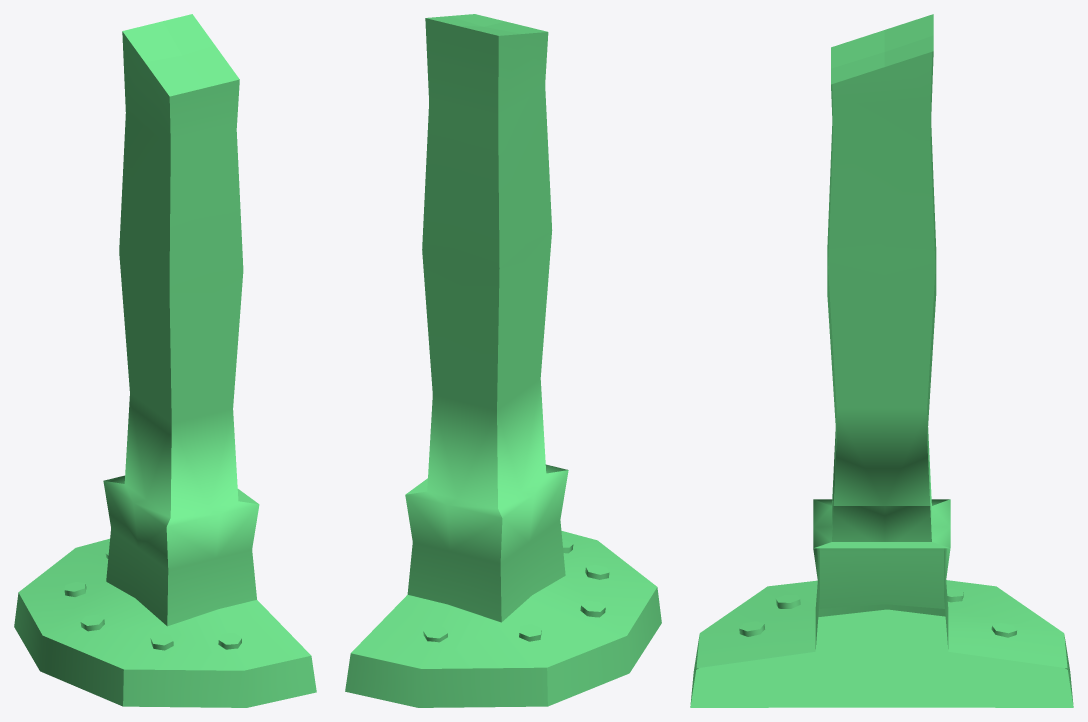
File: Kolumna złamana.fbx
3 views of the same model, side by side, from view 1: azimuth 30°, elevation 25°; view 2: azimuth 150°, elevation 25°; view 3: azimuth 270°, elevation 25° (orthographic). The views are drawn at different scales.
Parts seen in each view (by area): view 1: Kolumna_gura_low; view 2: Kolumna_gura_low; view 3: Kolumna_gura_low.
Part boxes in pixels (x1,y1,x2,y2): Kolumna_gura_low: [14, 14, 316, 707]; Kolumna_gura_low: [345, 14, 661, 707]; Kolumna_gura_low: [690, 14, 1073, 707].
Size of the model in its own units: 278 by 856 by 457.
